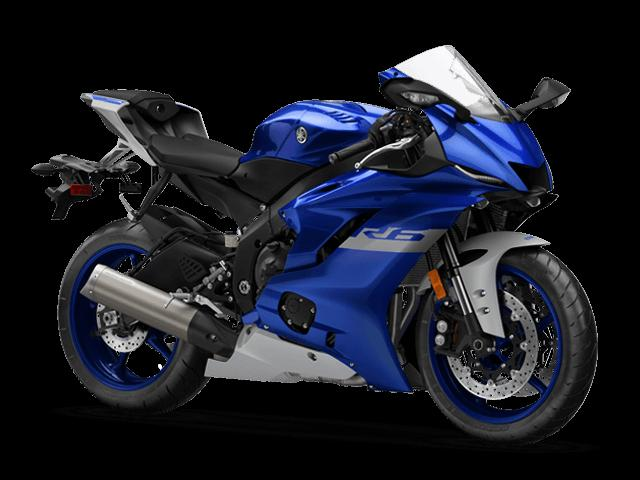motorbike: (30, 44, 597, 446)
